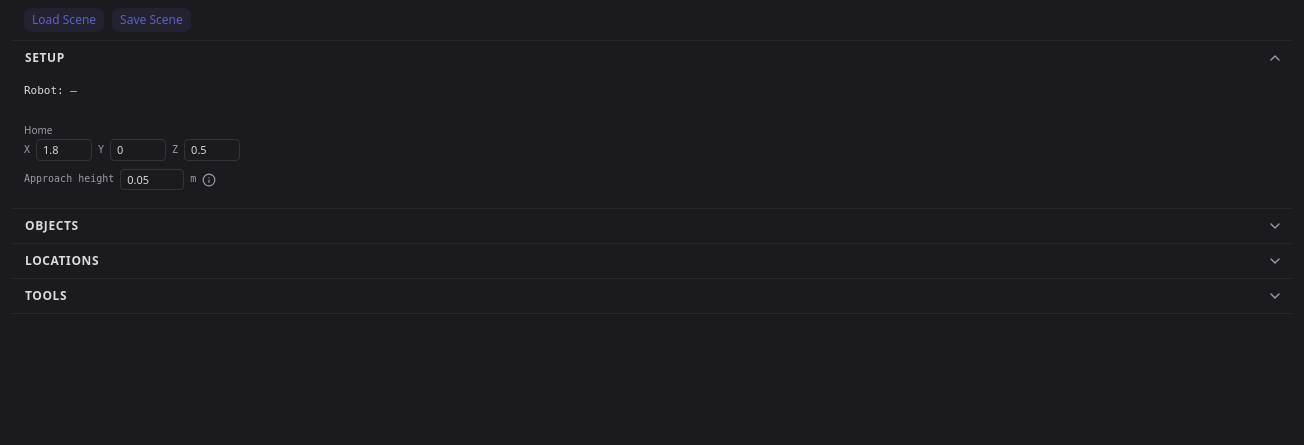
Test: SceneEditor — accordion structure (R1) › R1 — clicking a collapsed header expands it and mounts its content (user toggle)
Click the button "Objects": click(52, 226) [12,209,1292,243]
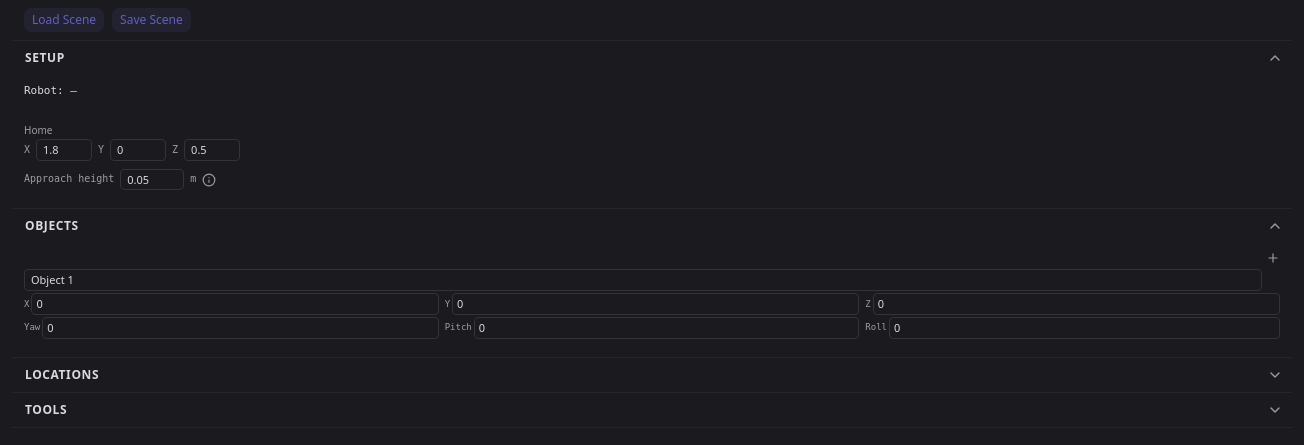
Expected: the button "Objects" is expanded, [12,209,1292,243]
Expected: the field showing "Object 1" is shown, [24,269,1262,291]
